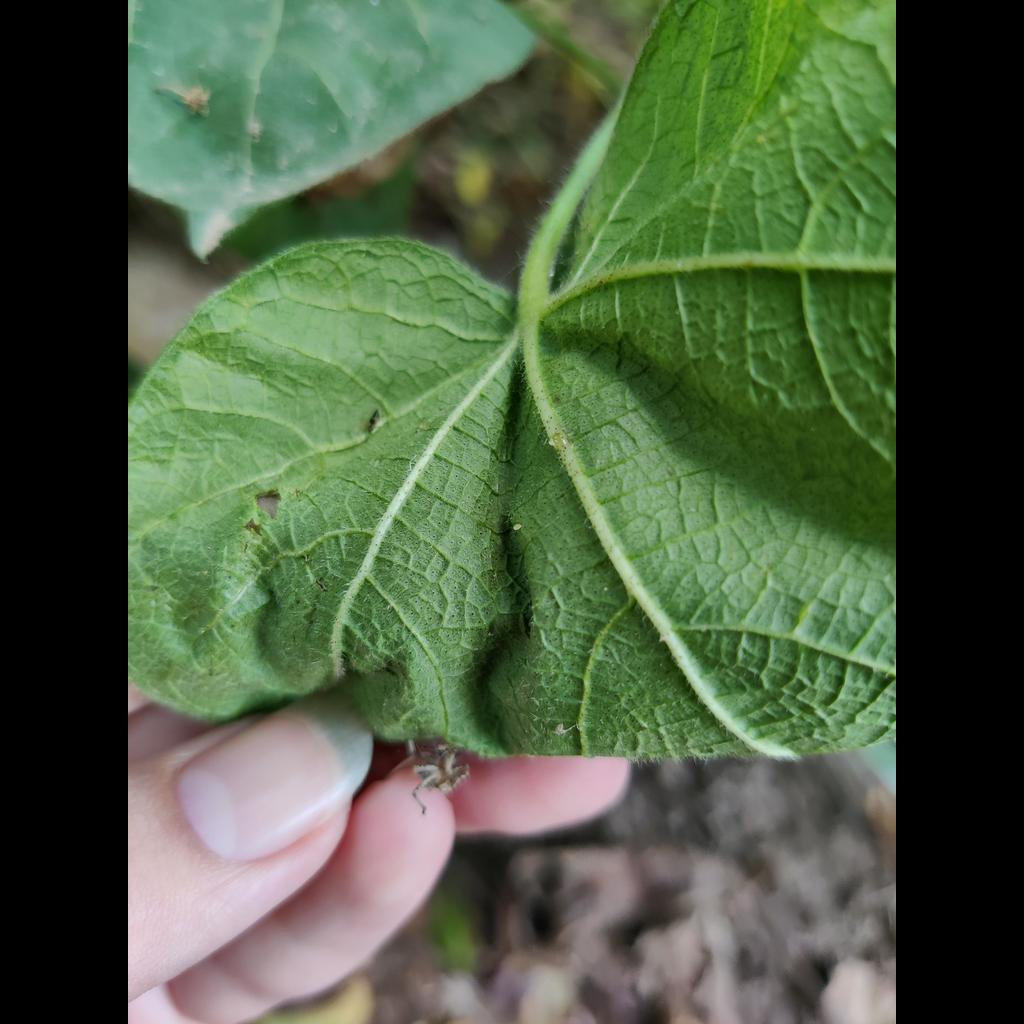nymph: (555, 723, 564, 735), (513, 523, 521, 530), (548, 438, 555, 446), (604, 587, 608, 591)
